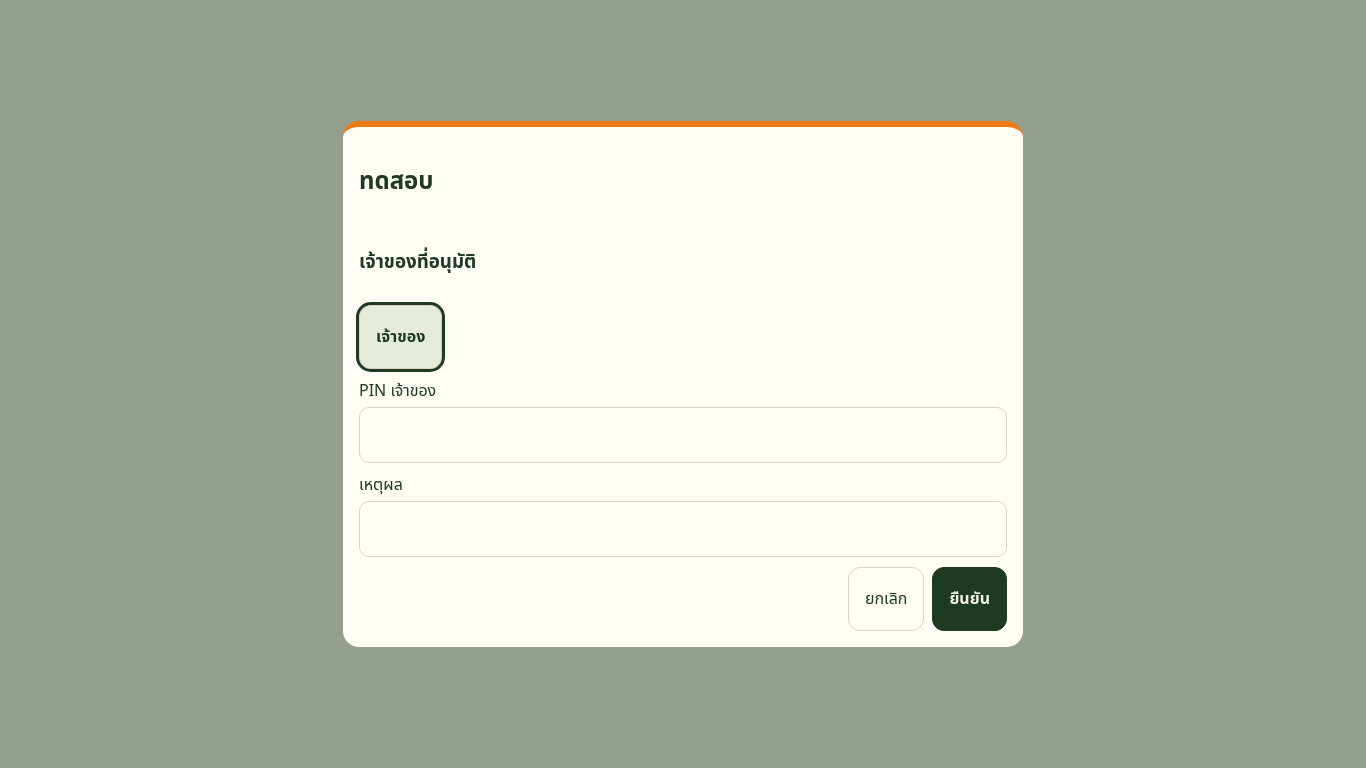
Test: OwnerApprovalDialog (fix round 2, parked Low; widened per security review) › clears the PIN field once the caller reports an unrelated error
Type "9999" into the field with test id "approval-pin" at x=683, y=435, box top-left (359, 407), bottom-right (1007, 463)
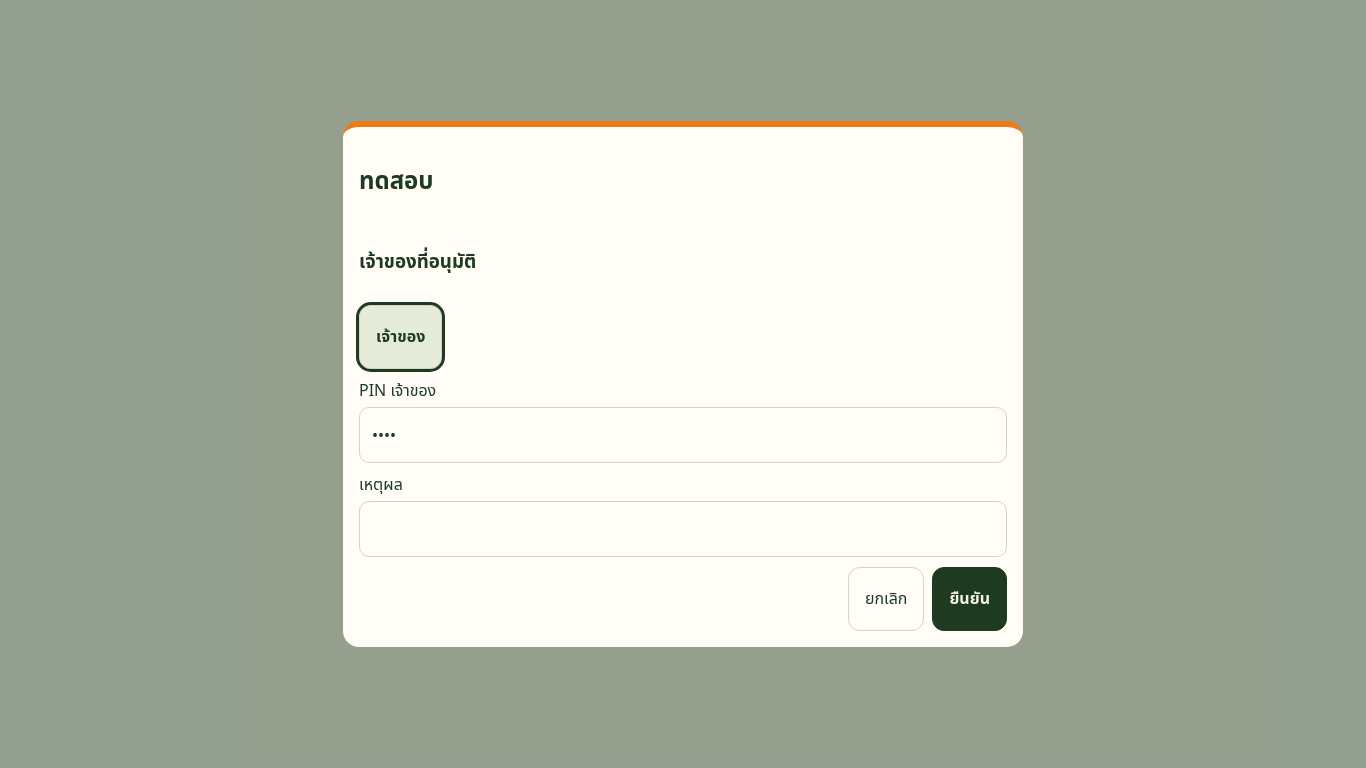
Type "เหตุผล" into the field with test id "approval-reason" at x=683, y=529, box top-left (359, 501), bottom-right (1007, 557)
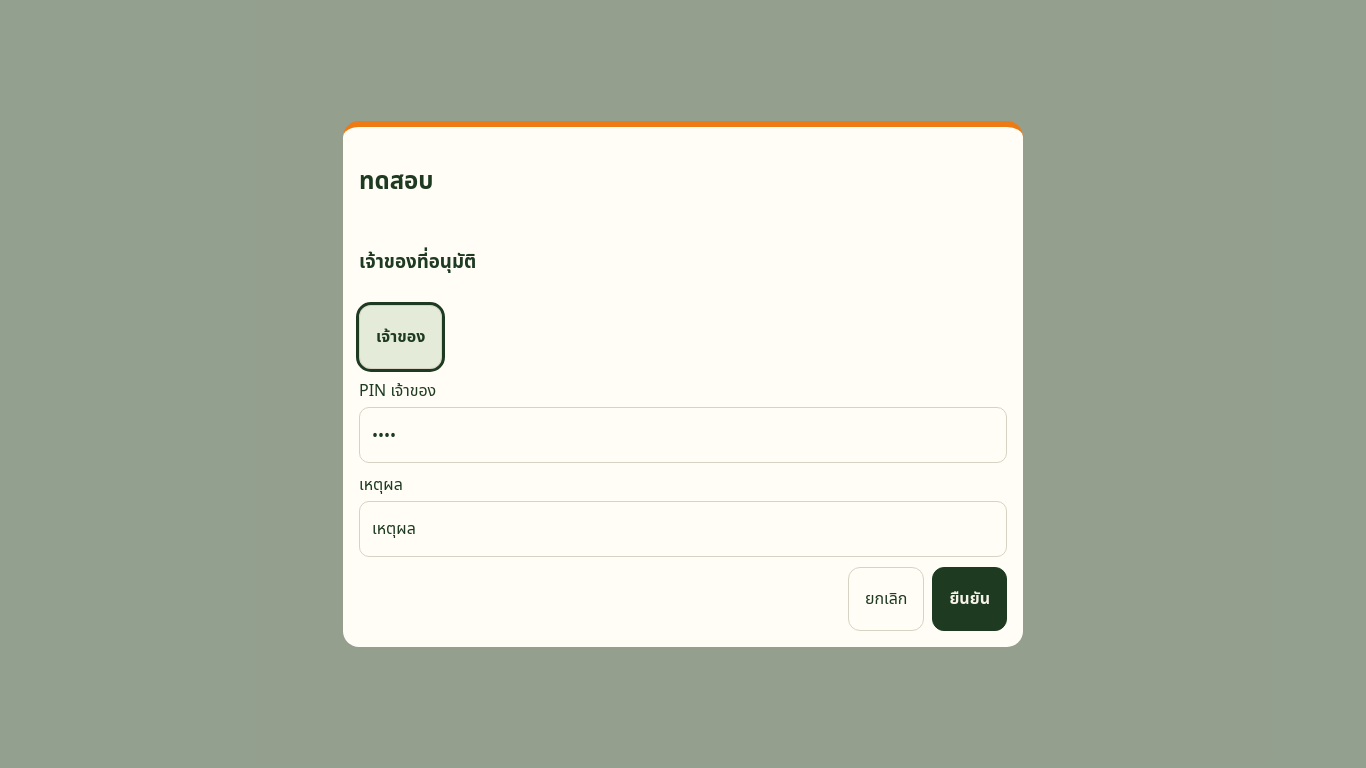
Click the button with test id "approval-ok" at x=970, y=599, box top-left (932, 567), bottom-right (1007, 631)
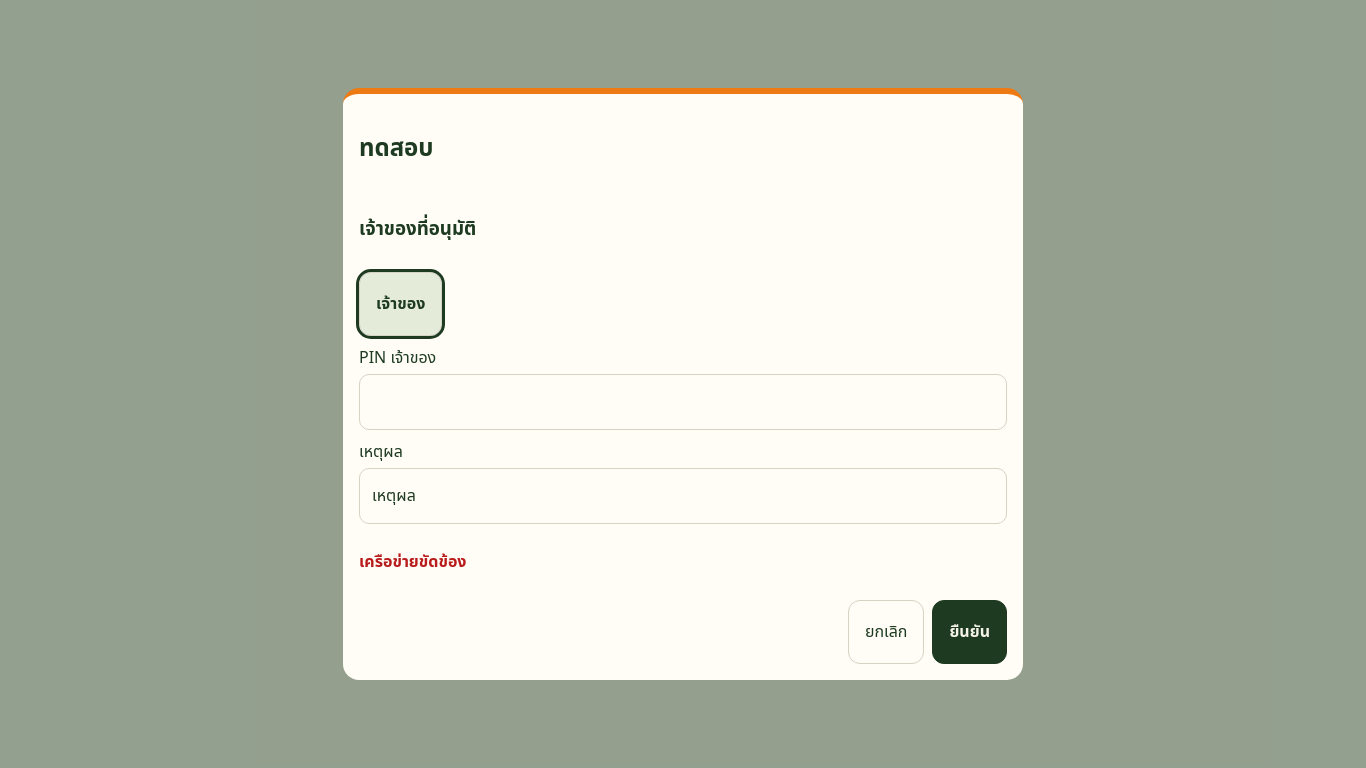
expect the message reads "เครือข่ายขัดข้อง": met, box top-left (359, 550), bottom-right (466, 572)
expect the field with test id "approval-pin" is empty: met, box top-left (359, 374), bottom-right (1007, 430)
